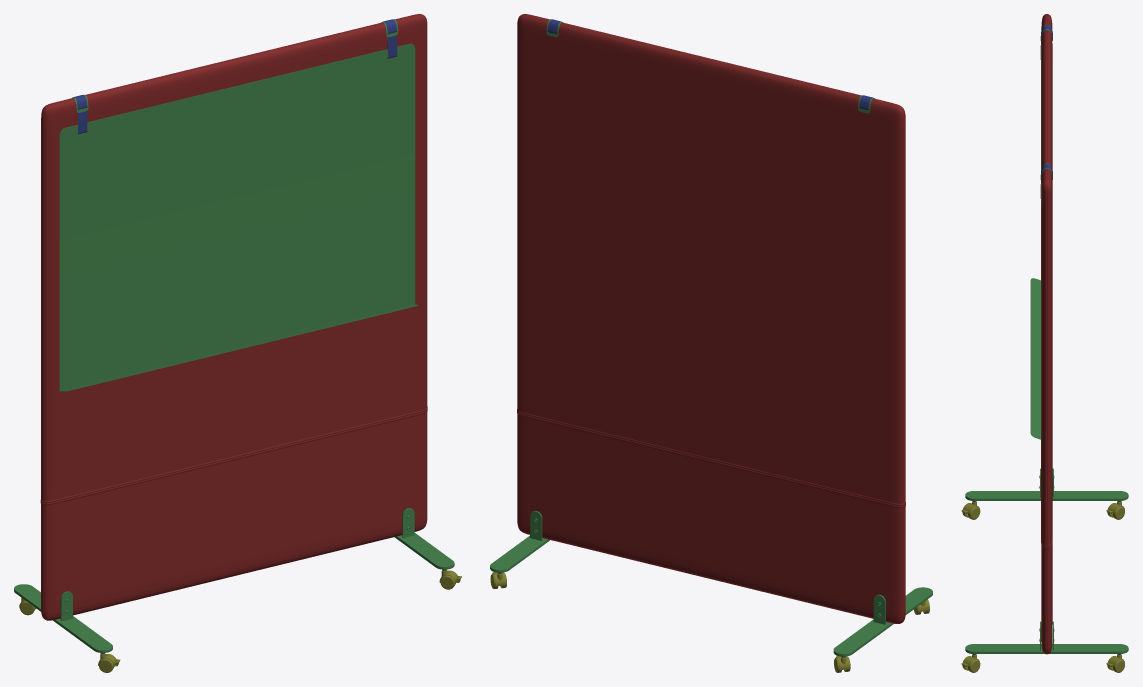
File: SM_Akustiktrennwand_Whiteboard.fbx
3 views of the same model, side by side, from view 1: azimuth 30°, elevation 25°; view 2: azimuth 150°, elevation 25°; view 3: azimuth 270°, elevation 25° (orthographic). The views are drawn at different scales.
Parts seen in each view (by area): view 1: SM_Akustiktrennwand_Whiteboard; view 2: SM_Akustiktrennwand_Whiteboard; view 3: SM_Akustiktrennwand_Whiteboard.
Boxes of the visible parts, bbox=[...] form: SM_Akustiktrennwand_Whiteboard: bbox=[14, 14, 461, 672]; SM_Akustiktrennwand_Whiteboard: bbox=[490, 14, 932, 672]; SM_Akustiktrennwand_Whiteboard: bbox=[961, 14, 1128, 672].
Size of the model in its own units: 147 by 197 by 59.99.
